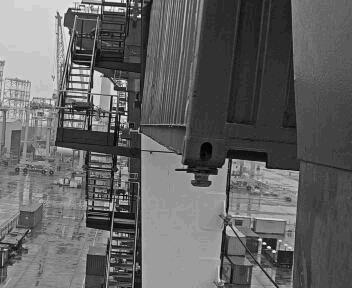twist_lock_1: (180, 159, 223, 194)
